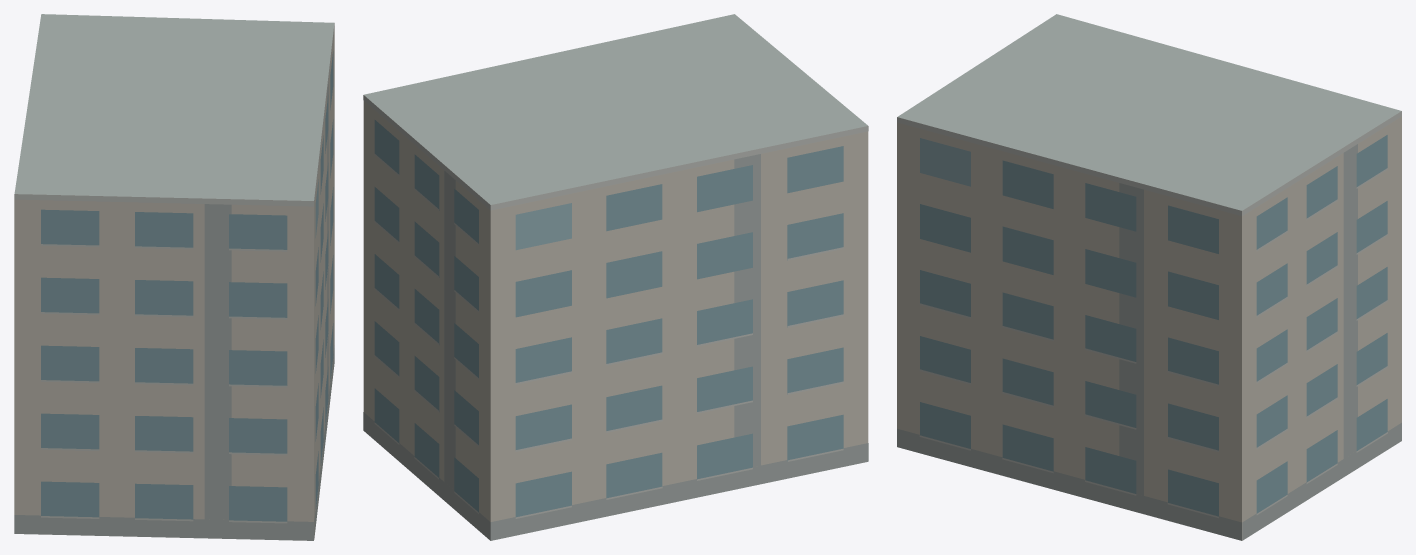
The model's file is survey-upis-32834764.glb.
3 views of the same model, side by side, from view 1: azimuth 30°, elevation 25°; view 2: azimuth 150°, elevation 25°; view 3: azimuth 270°, elevation 25° (orthographic). The views are drawn at different scales.
Parts seen in each view (by area): view 1: survey-upis-32834764.tmp; view 2: survey-upis-32834764.tmp; view 3: survey-upis-32834764.tmp.
Boxes of the visible parts, x1=… form: survey-upis-32834764.tmp: x1=14, y1=14, x2=334, y2=540; survey-upis-32834764.tmp: x1=363, y1=14, x2=868, y2=540; survey-upis-32834764.tmp: x1=897, y1=14, x2=1401, y2=540.
Bounding box in the file's own units: 19.2 × 15 × 20.8.
